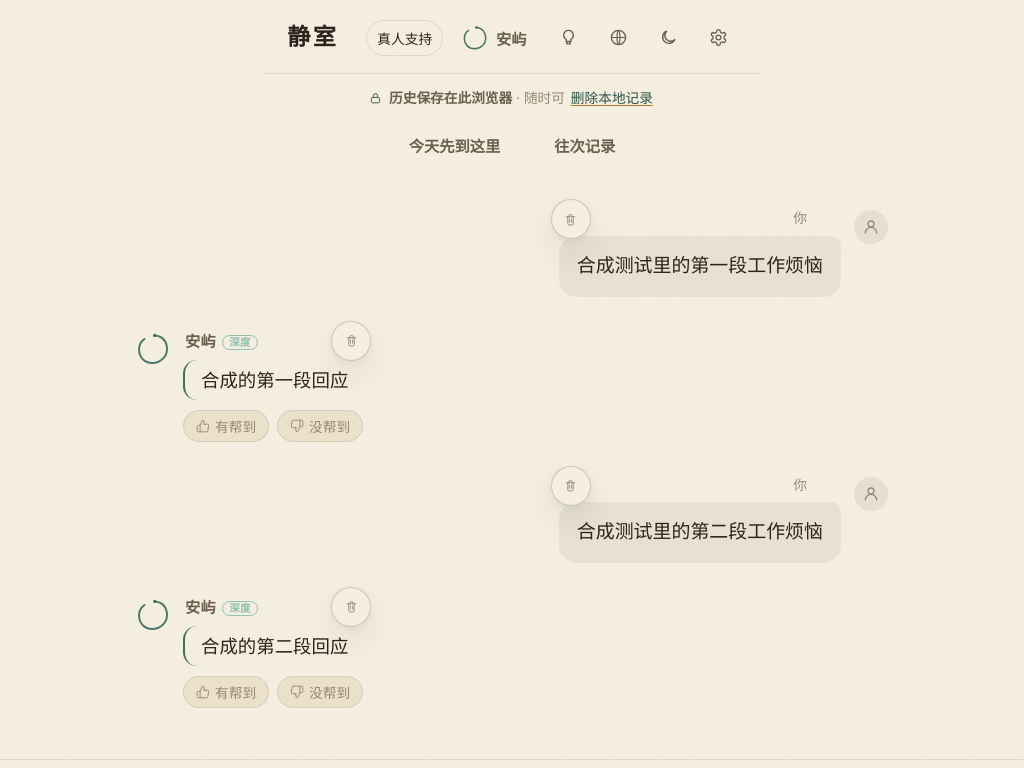
Test case: App deletion and request lifetime › never restores a late understanding after deleting all records
The image size is (1024, 768).
Click the button named "对你的理解": [569, 38] box [551,20,587,56]
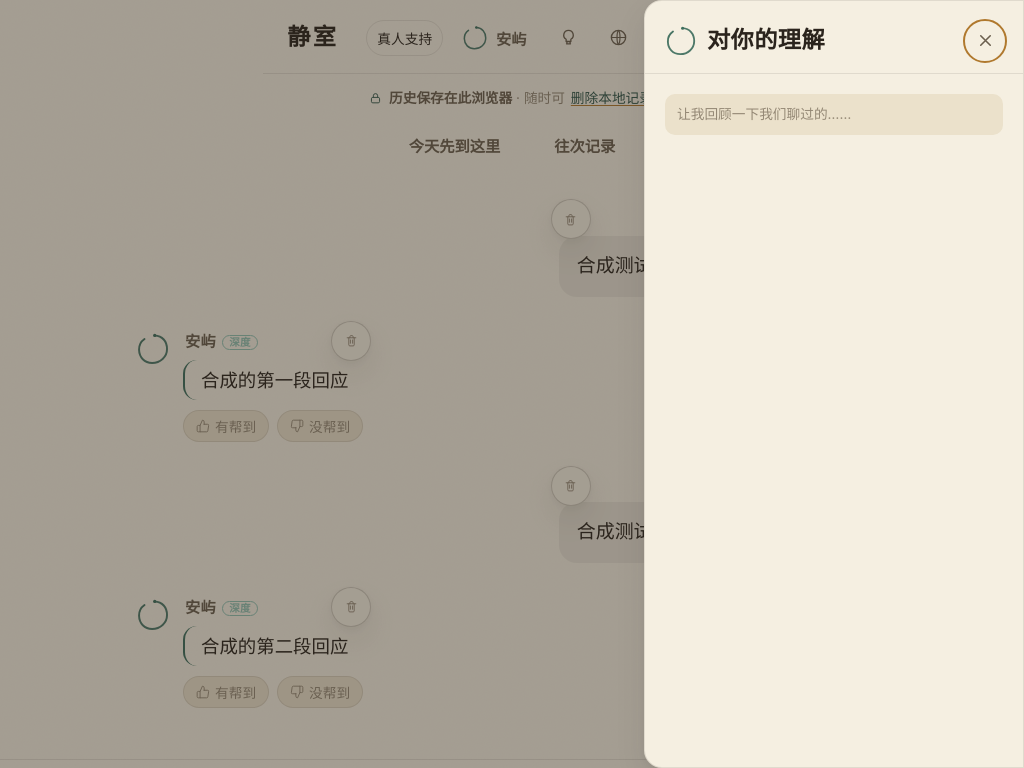
Expected: the text "让我回顾一下我们聊过的……" is shown, [665,94,1003,135]
Press Escape
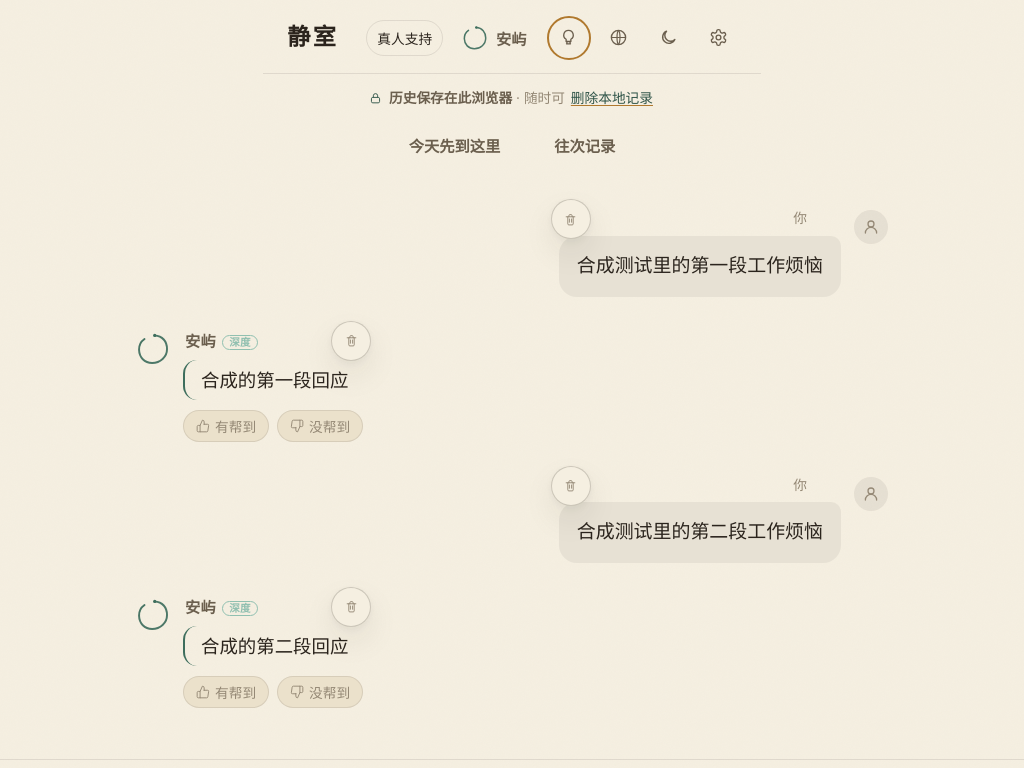
Click the button "删除本地记录": [612, 99] box [569,82,655,115]
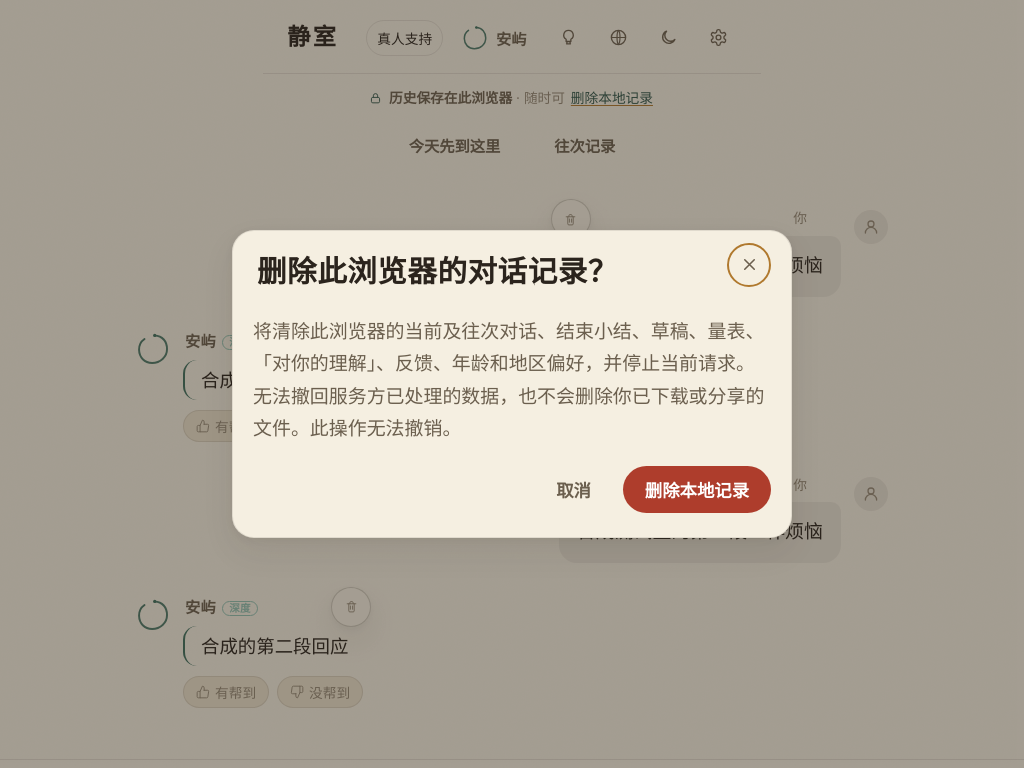
Click the button "删除本地记录": [697, 490] box [623,466,771,513]
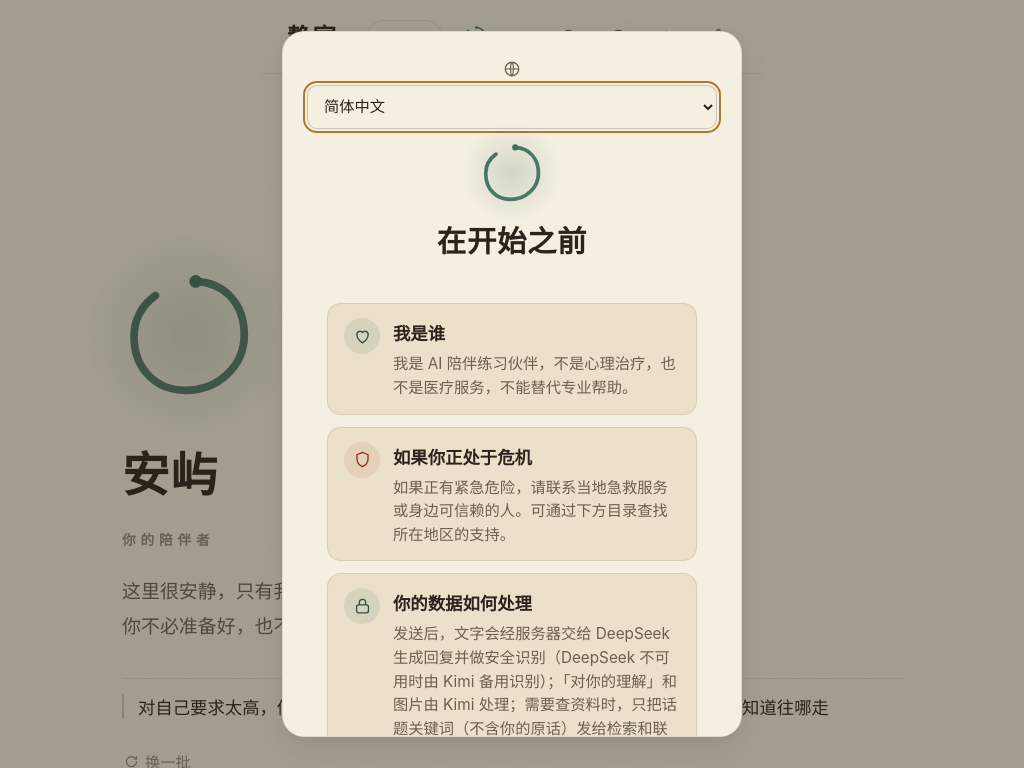
Expected: the dialog "在开始之前" is shown, [282,31,742,737]
